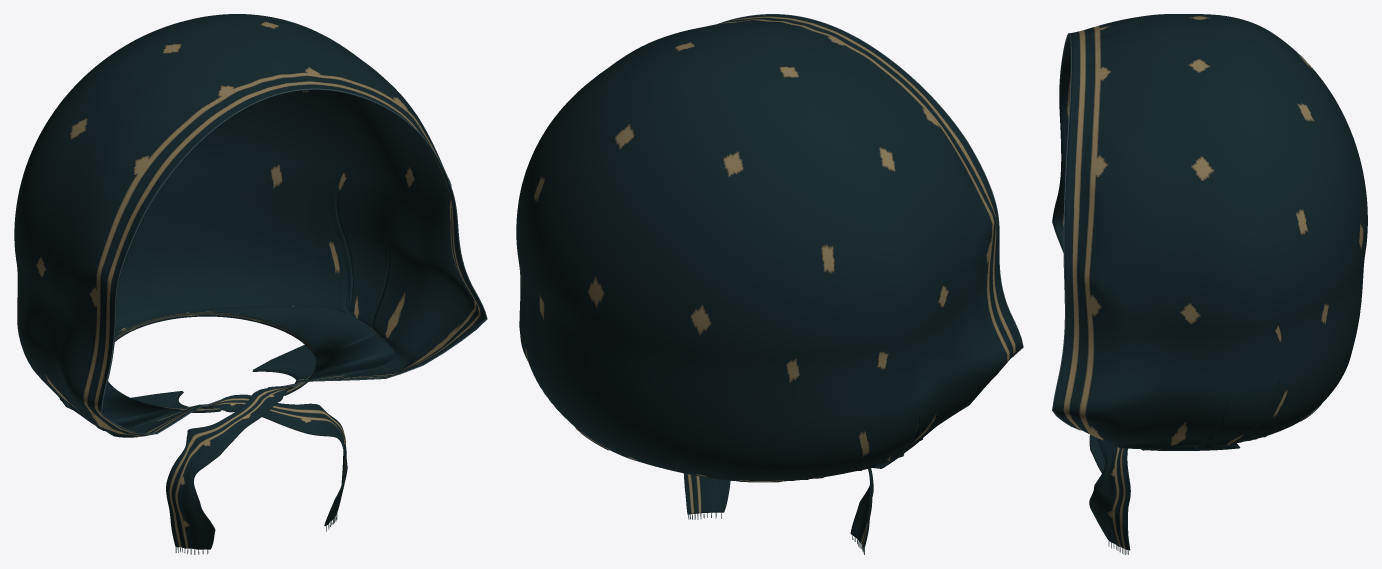
The model's file is Feminine-curls-triangle-pashmina250-headgear.glb.
3 views of the same model, side by side, from view 1: azimuth 30°, elevation 25°; view 2: azimuth 150°, elevation 25°; view 3: azimuth 270°, elevation 25° (orthographic). The views are drawn at different scales.
Visible parts, largest first — view 1: 226 headgear / Headwear / continuous woven pashmina239, 226 headgear / Headwear / face edge239; view 2: 226 headgear / Headwear / continuous woven pashmina239, 226 headgear / Headwear / face edge239; view 3: 226 headgear / Headwear / continuous woven pashmina239, 226 headgear / Headwear / face edge239.
Boxes of the visible parts, left/top/right/bottom form: 226 headgear / Headwear / continuous woven pashmina239: left=14, top=14, right=486, bottom=549; 226 headgear / Headwear / face edge239: left=101, top=88, right=487, bottom=434; 226 headgear / Headwear / continuous woven pashmina239: left=516, top=14, right=1022, bottom=548; 226 headgear / Headwear / face edge239: left=718, top=14, right=1023, bottom=357; 226 headgear / Headwear / continuous woven pashmina239: left=1052, top=14, right=1367, bottom=550; 226 headgear / Headwear / face edge239: left=1052, top=33, right=1080, bottom=430.
Size of the model in its own units: 1.2 by 1.4 by 0.8334.
3 materials, 1 textured.
